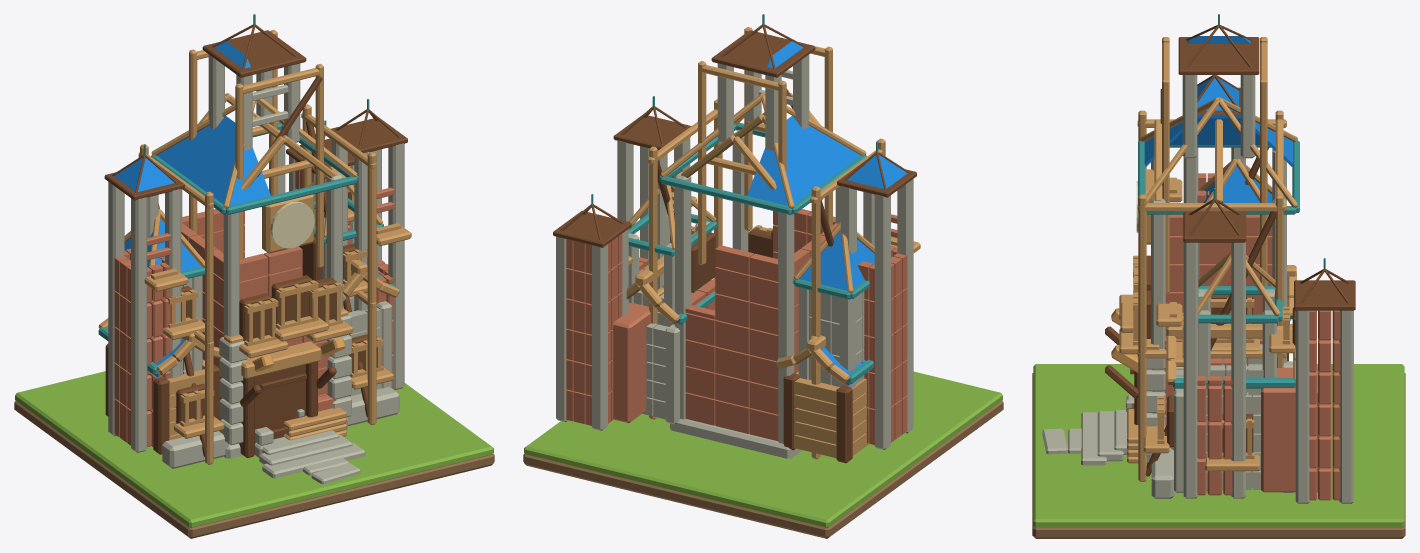
Rendered from town_hall_l13_construction_LOD0.glb.
3 renders of one model, left to right at view 1: azimuth 30°, elevation 25°; view 2: azimuth 150°, elevation 25°; view 3: azimuth 270°, elevation 25°, orthographic. The views are drawn at different scales.
Visible parts, largest first — view 1: town_hall_l13_construction_grass_tile, town_hall_l13_construction_earth_tile, town_hall_l13_construction_corner_reinforcement.024, town_hall_l13_construction_corner_reinforcement.030, town_hall_l13_construction_scaffold_post.002, town_hall_l13_construction_door_recess, town_hall_l13_construction_corner_reinforcement.025, town_hall_l13_construction_scaffold_post, town_hall_l13_construction_central_spire_cornice, town_hall_l13_construction_hip_roof_shingle.011, town_hall_l13_construction_corner_reinforcement, town_hall_l13_construction_corner_reinforcement.026 (+39 smaller); view 2: town_hall_l13_construction_grass_tile, town_hall_l13_construction_earth_tile, town_hall_l13_construction_corner_reinforcement.025, town_hall_l13_construction_vertical_corner_connector, town_hall_l13_construction_corner_reinforcement.001, town_hall_l13_construction_corner_reinforcement.033, town_hall_l13_construction_corner_reinforcement.003, town_hall_l13_construction_corner_reinforcement.024, town_hall_l13_construction_central_spire_cornice, town_hall_l13_construction_hip_roof_shingle.011, town_hall_l13_construction_corner_reinforcement.035, town_hall_l13_construction_foundation (+59 smaller); view 3: town_hall_l13_construction_grass_tile, town_hall_l13_construction_earth_tile, town_hall_l13_construction_corner_reinforcement.030, town_hall_l13_construction_vertical_corner_connector, town_hall_l13_construction_corner_reinforcement.031, town_hall_l13_construction_corner_reinforcement.034, town_hall_l13_construction_corner_reinforcement.035, town_hall_l13_construction_central_spire_cornice, town_hall_l13_construction_scaffold_post.002, town_hall_l13_construction_corner_reinforcement.002, town_hall_l13_construction_right_spire_cornice, town_hall_l13_construction_rear_right_spire_cornice (+42 smaller).
Boxes of the visible parts, box(x1,y1,x2,y2) form: town_hall_l13_construction_grass_tile: box(15, 371, 493, 527); town_hall_l13_construction_earth_tile: box(14, 400, 494, 538); town_hall_l13_construction_corner_reinforcement.024: box(131, 197, 147, 452); town_hall_l13_construction_corner_reinforcement.030: box(388, 143, 404, 389); town_hall_l13_construction_scaffold_post.002: box(367, 152, 376, 424); town_hall_l13_construction_door_recess: box(255, 364, 305, 442); town_hall_l13_construction_corner_reinforcement.025: box(108, 182, 124, 436); town_hall_l13_construction_scaffold_post: box(205, 191, 213, 464); town_hall_l13_construction_central_spire_cornice: box(202, 30, 306, 77); town_hall_l13_construction_hip_roof_shingle.011: box(157, 138, 231, 214); town_hall_l13_construction_corner_reinforcement: box(223, 212, 239, 336); town_hall_l13_construction_corner_reinforcement.026: box(165, 189, 181, 378); town_hall_l13_construction_grass_tile: box(524, 371, 1002, 527); town_hall_l13_construction_earth_tile: box(523, 400, 1003, 538); town_hall_l13_construction_corner_reinforcement.025: box(874, 194, 890, 449); town_hall_l13_construction_vertical_corner_connector: box(612, 302, 650, 423); town_hall_l13_construction_corner_reinforcement.001: box(778, 212, 794, 443); town_hall_l13_construction_corner_reinforcement.033: box(591, 244, 607, 430); town_hall_l13_construction_corner_reinforcement.003: box(675, 172, 691, 419); town_hall_l13_construction_corner_reinforcement.024: box(897, 179, 913, 433); town_hall_l13_construction_central_spire_cornice: box(711, 30, 815, 77); town_hall_l13_construction_hip_roof_shingle.011: box(786, 138, 860, 214); town_hall_l13_construction_corner_reinforcement.035: box(556, 236, 567, 422); town_hall_l13_construction_foundation: box(670, 418, 802, 458); town_hall_l13_construction_grass_tile: box(1033, 364, 1404, 527); town_hall_l13_construction_earth_tile: box(1032, 373, 1405, 538); town_hall_l13_construction_corner_reinforcement.030: box(1183, 242, 1198, 498); town_hall_l13_construction_vertical_corner_connector: box(1261, 367, 1318, 492); town_hall_l13_construction_corner_reinforcement.031: box(1231, 242, 1245, 498); town_hall_l13_construction_corner_reinforcement.034: box(1295, 310, 1310, 503); town_hall_l13_construction_corner_reinforcement.035: box(1339, 310, 1353, 503); town_hall_l13_construction_central_spire_cornice: box(1178, 37, 1259, 74); town_hall_l13_construction_scaffold_post.002: box(1138, 194, 1146, 481); town_hall_l13_construction_corner_reinforcement.002: box(1151, 198, 1165, 456); town_hall_l13_construction_right_spire_cornice: box(1183, 212, 1246, 242); town_hall_l13_construction_rear_right_spire_cornice: box(1294, 280, 1355, 310).
Size of the model in its own units: 3.6 by 4.76 by 3.6.
